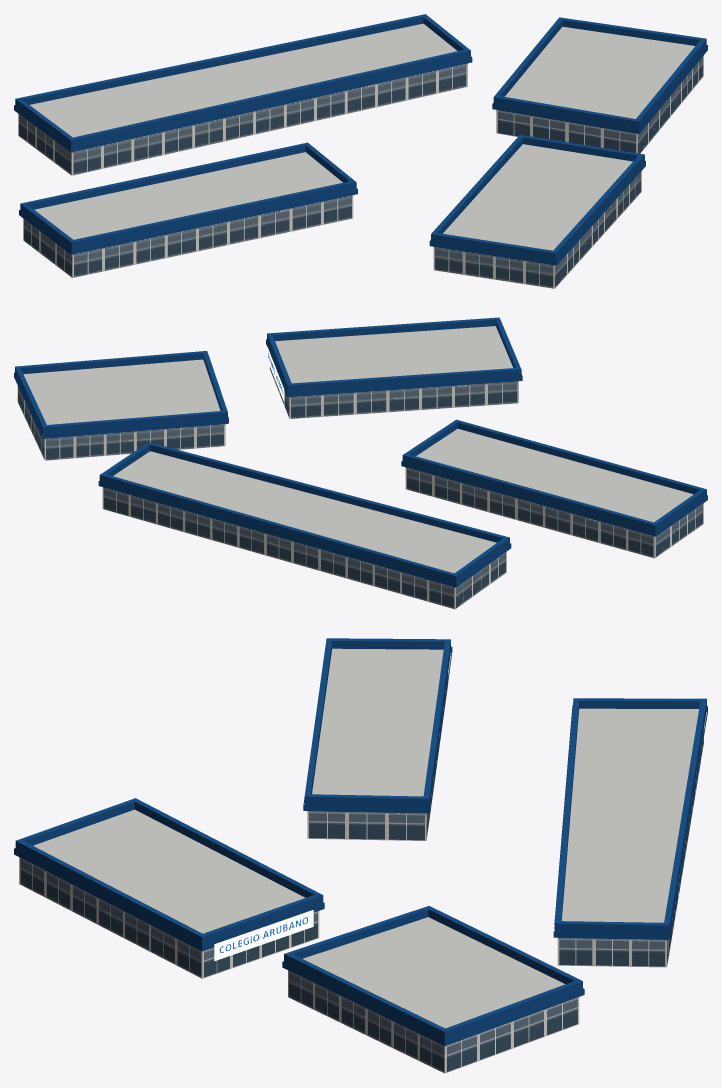
The model's file is colegioarubano_cb.glb.
The picture shows the model from 3 angles, top to bottom: view 1: azimuth 30°, elevation 25°; view 2: azimuth 150°, elevation 25°; view 3: azimuth 270°, elevation 25°; orthographic projection. The views are drawn at different scales.
Visible parts, largest first — view 1: colegioarubano_cb_lod0; view 2: colegioarubano_cb_lod0; view 3: colegioarubano_cb_lod0.
Part boxes in pixels (x1=…): colegioarubano_cb_lod0: x1=14, y1=14, x2=707, y2=288; colegioarubano_cb_lod0: x1=14, y1=317, x2=707, y2=609; colegioarubano_cb_lod0: x1=14, y1=638, x2=707, y2=1073.
Size of what is drawn, in the model's own units: 86.25 by 4.4 by 64.06.
Materials: 4 (2 with a texture image).
